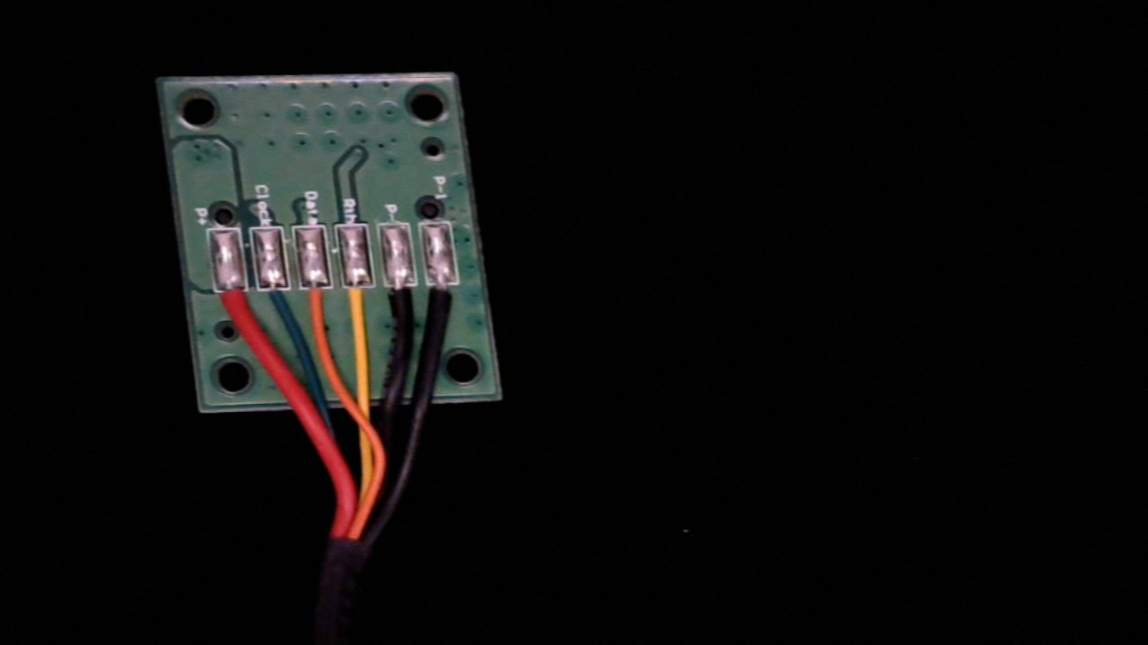Black: (385, 270, 420, 338)
Black1: (425, 270, 464, 327)
Green: (257, 272, 294, 335)
Orange: (299, 273, 336, 333)
Red: (211, 275, 251, 337)
Yellow: (340, 270, 380, 339)
